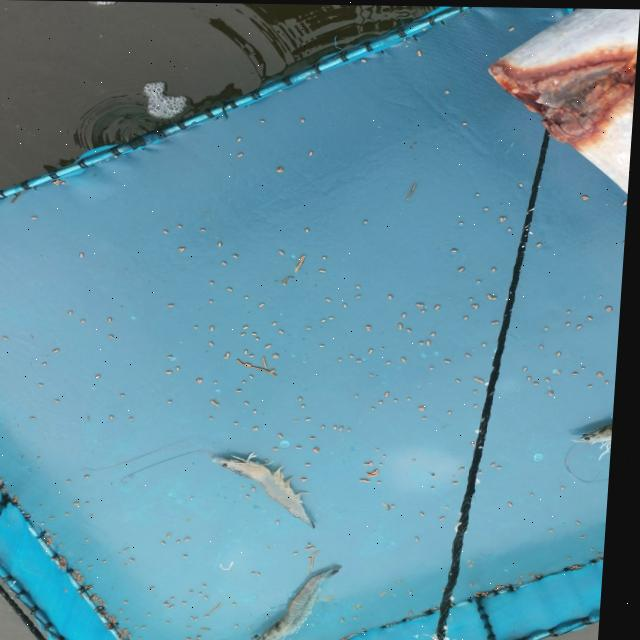Shrimp feeds: (374, 468, 386, 477), (32, 214, 44, 222), (309, 148, 319, 156), (182, 244, 192, 252), (479, 374, 489, 382), (576, 368, 586, 376), (200, 378, 211, 385), (419, 300, 430, 307), (601, 368, 610, 376), (462, 118, 471, 126), (302, 116, 311, 124), (278, 167, 288, 174), (610, 303, 620, 310), (425, 403, 435, 410), (509, 23, 519, 30), (170, 367, 180, 374), (583, 193, 593, 200), (7, 336, 17, 343), (426, 509, 436, 516), (262, 117, 272, 124), (215, 400, 226, 406), (318, 445, 327, 452), (438, 302, 447, 309), (230, 285, 239, 292), (80, 499, 89, 506), (210, 281, 219, 288), (211, 330, 220, 337), (257, 410, 266, 417), (503, 214, 513, 220), (539, 242, 549, 248), (497, 319, 507, 325), (214, 324, 222, 331), (324, 268, 332, 275), (328, 296, 336, 303), (469, 352, 478, 358), (166, 228, 175, 234), (224, 259, 233, 265), (466, 314, 475, 320), (83, 252, 92, 258), (370, 324, 379, 330), (446, 87, 455, 93), (307, 226, 316, 232), (332, 314, 341, 320), (383, 478, 392, 484), (89, 473, 98, 479), (454, 248, 463, 254), (485, 206, 494, 212), (405, 356, 414, 362), (214, 341, 222, 347), (263, 300, 271, 306), (112, 317, 120, 323), (236, 253, 244, 259), (203, 225, 211, 231), (390, 293, 398, 299), (591, 314, 599, 320), (324, 343, 332, 349), (474, 295, 482, 301), (428, 415, 436, 421), (181, 364, 189, 370), (174, 532, 182, 538), (461, 375, 469, 381), (301, 444, 309, 450), (221, 242, 229, 248), (559, 350, 567, 356), (359, 283, 367, 289), (208, 582, 216, 588), (282, 328, 290, 334), (312, 462, 321, 467), (421, 535, 430, 540), (254, 372, 261, 378), (452, 407, 459, 413), (172, 354, 179, 360), (255, 330, 262, 336), (280, 519, 287, 525), (197, 324, 205, 329), (246, 324, 254, 329), (406, 312, 414, 317), (327, 255, 335, 260), (569, 320, 577, 325), (390, 391, 398, 396), (278, 446, 286, 451), (247, 348, 255, 353), (550, 375, 558, 380), (543, 343, 551, 348), (387, 589, 395, 594), (448, 358, 456, 363), (359, 293, 366, 298), (478, 191, 485, 196), (301, 549, 308, 554), (347, 302, 354, 307), (270, 343, 277, 348), (241, 388, 248, 393), (419, 456, 426, 461), (277, 353, 284, 358), (250, 294, 256, 299), (72, 310, 78, 315), (310, 325, 317, 329), (392, 360, 399, 364), (48, 362, 55, 366), (342, 357, 349, 361), (374, 372, 381, 376), (258, 426, 265, 430), (101, 374, 106, 379), (325, 317, 330, 322), (352, 428, 358, 432), (58, 349, 64, 353), (276, 321, 282, 325), (259, 336, 265, 340), (44, 383, 48, 387), (255, 353, 259, 357), (0, 378, 2, 385), (60, 400, 66, 402), (115, 416, 119, 419), (249, 402, 255, 404), (245, 332, 249, 335), (239, 422, 244, 424), (135, 417, 138, 420), (304, 397, 307, 400), (125, 394, 129, 396), (307, 405, 311, 406)
